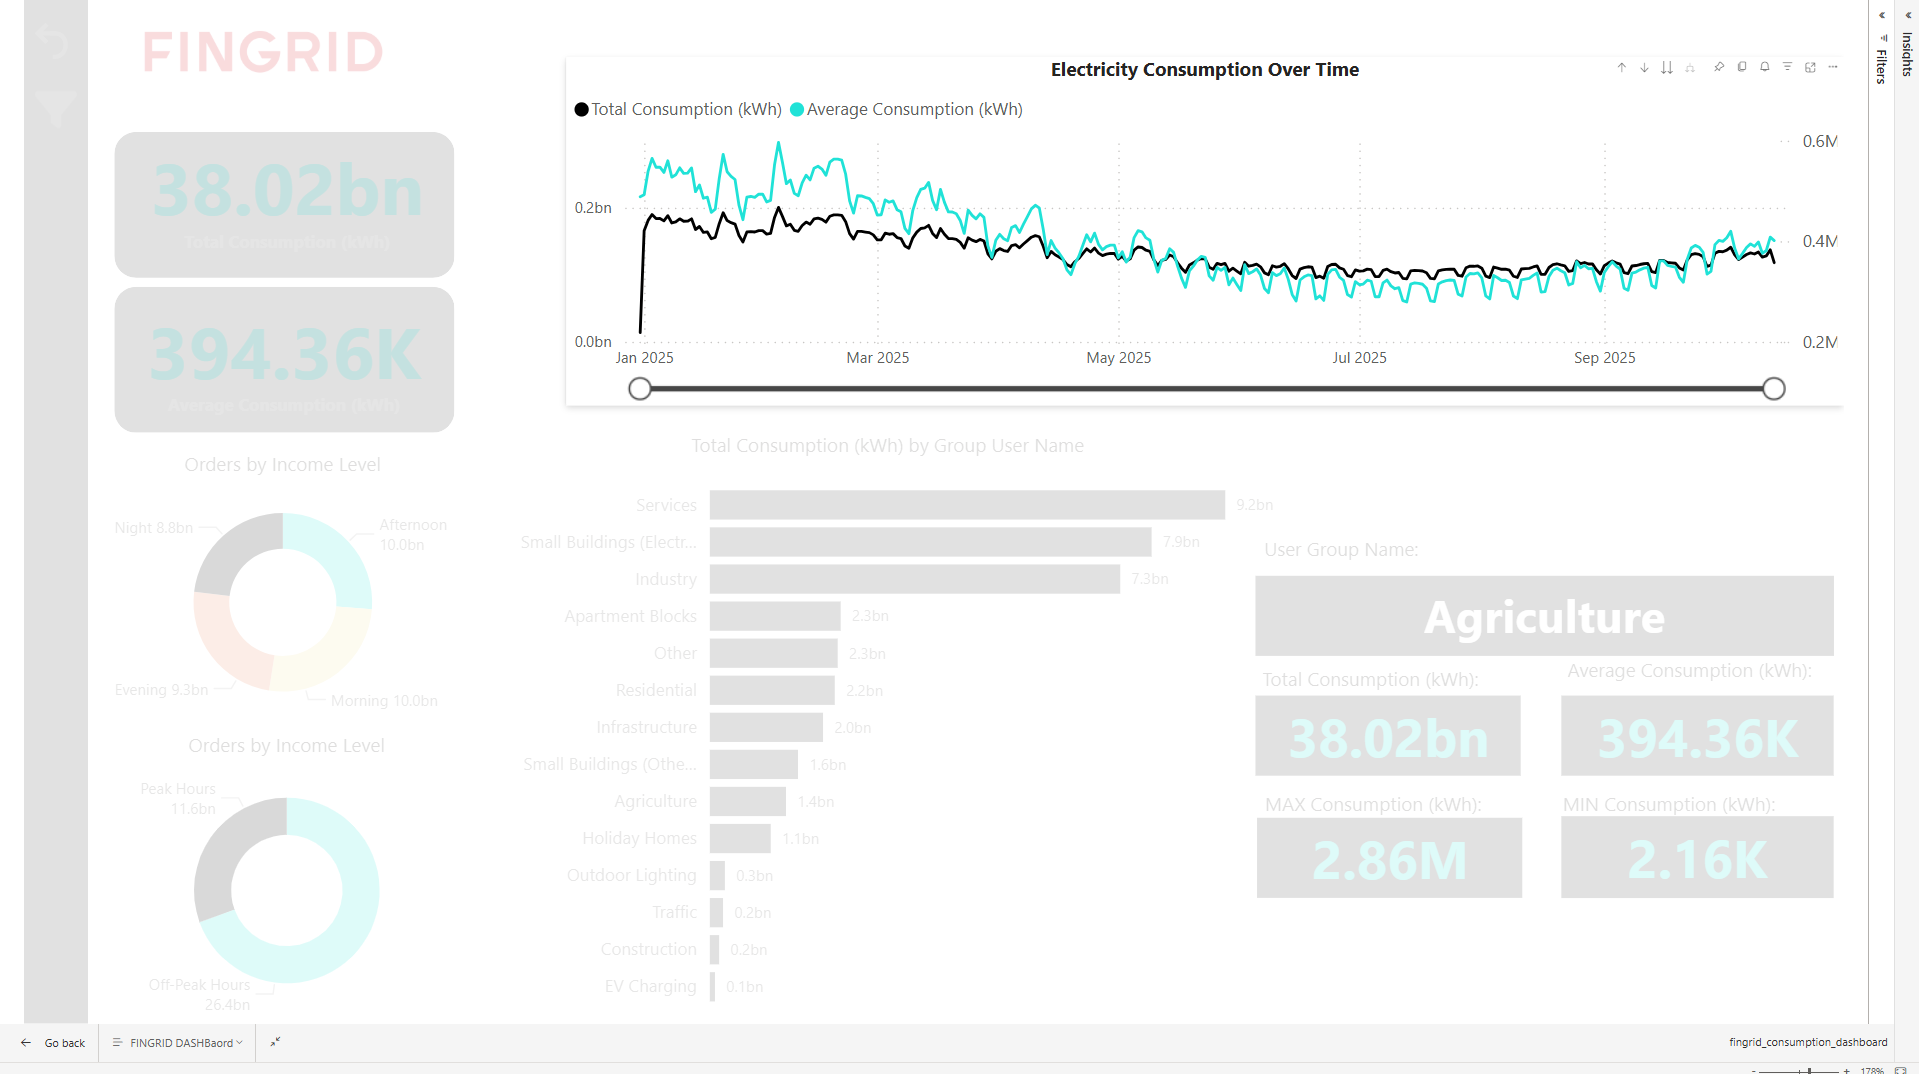

The dashboard page shown, as its layout file describes it:
{"tool":"powerbi","page":{"name":"FINGRID DASHBaord","canvas":[1280,720],"ordinal":0},"visuals":[{"type":"clusteredBarChart","title":"Total Consumption (kWh) by Group User Name","fields":{"Y":[" Measures.Total Consumption (kWh)"],"Category":["dim_usergroup.user_group_name"]},"box":[331.2,303.8,552.5,416.2],"z":0},{"type":"donutChart","title":"Orders by Income Level","fields":{"Category":["dim_hour.peak_description"],"Y":["Sum(fact_consumption.total_consumption_kwh)"]},"box":[51.2,515,267.5,205],"z":1000},{"type":"shape","box":[63.8,92.5,239.5,102.8],"z":2000,"group":"g1"},{"type":"donutChart","title":"Orders by Income Level","fields":{"Category":["dim_hour.period_of_day"],"Y":[" Measures.Total Consumption (kWh)"]},"box":[42.5,317.5,278.8,195],"z":2000},{"type":"lineChart","title":"Electricity Consumption Over Time","fields":{"Y":[" Measures.Total Consumption (kWh)"],"Category":["dim_date.year Hierarchy.year","dim_date.year Hierarchy.quarter","dim_date.year Hierarchy.month_name","dim_date.year Hierarchy.date","dim_date.year Hierarchy.day_of_month"],"Y2":[" Measures.Average Consumption (kWh)"]},"box":[381.2,40,898.8,245],"z":3000},{"type":"shape","box":[63.8,201.4,239.5,102.8],"z":3000,"group":"g1"},{"type":"group","id":"g1","title":"Group 2","box":[63.8,92.5,240,211.2],"z":5000},{"type":"group","id":"g2","title":"Group 1","box":[55,62.5,257.5,265],"z":6000},{"type":"card","fields":{"Values":[" Measures.Average Consumption (kWh)"]},"box":[55,177.5,255.9,149.9],"z":6000,"group":"g2"},{"type":"image","box":[75,10,186.2,52.5],"z":7000},{"type":"card","fields":{"Values":["Min(dim_usergroup.user_group_name)"]},"box":[866.2,405,406.9,56.6],"z":7000,"group":"g4"},{"type":"card","fields":{"Values":[" Measures.Total Consumption (kWh)"]},"box":[57.3,62.5,255.9,149.9],"z":8000,"group":"g2"},{"type":"group","id":"g3","title":"Group 4","box":[866.2,372.6,401.2,258.8],"z":8000},{"type":"card","fields":{"Values":[" Measures.Total Consumption (kWh)"]},"box":[866.2,489.2,187.2,56.6],"z":8000,"group":"g4"},{"type":"shape","title":"Left Nav Background","box":[0,0,45,720],"z":9000},{"type":"card","fields":{"Values":[" Measures.Average Consumption (kWh)"]},"box":[1081.3,489.2,191.8,56.6],"z":9000,"group":"g4"},{"type":"actionButton","box":[2.5,10,35,36.2],"z":10000},{"type":"textbox","box":[866.2,464.4,187.2,32.9],"z":10000,"group":"g4"},{"type":"actionButton","box":[3.8,57.5,37.5,40],"z":11000},{"type":"textbox","box":[1080.8,457.4,185.9,31.1],"z":11000,"group":"g3"},{"type":"textbox","box":[867.2,372.6,187,32.3],"z":12000,"group":"g4"},{"type":"card","fields":{"Values":[" Measures.Max Consumption (kWh)"]},"box":[867.2,575.4,187.2,56.5],"z":13000,"group":"g4"},{"type":"card","fields":{"Values":[" Measures.Min Consumption (kWh)"]},"box":[1081.6,574.5,191.4,57.4],"z":14000,"group":"g4"},{"type":"textbox","box":[867.7,551.6,187.2,32.9],"z":15000,"group":"g4"},{"type":"textbox","box":[1077.3,551.6,187.2,32.9],"z":16000,"group":"g4"},{"type":"group","id":"g4","title":"Group 3","box":[866.2,372.6,400.2,259.3],"z":17001,"group":"g3"}]}

Visuals, with their boxes on the page's 1280x720 design canvas (x1, y1, x2, y2). These are canvas units, not pixel positions in the 1919x1074 screenshot, which may show the page scaled, cropped or inside an application window:
"Total Consumption (kWh) by Group User Name" clusteredBarChart: region(331, 304, 884, 720)
"Orders by Income Level" donutChart: region(51, 515, 319, 720)
shape: region(64, 92, 303, 195)
"Orders by Income Level" donutChart: region(42, 318, 321, 512)
"Electricity Consumption Over Time" lineChart: region(381, 40, 1280, 285)
shape: region(64, 201, 303, 304)
"Group 2" group: region(64, 92, 304, 304)
"Group 1" group: region(55, 62, 312, 328)
card -  Measures.Average Consumption (kWh): region(55, 178, 311, 327)
image: region(75, 10, 261, 62)
card - Min(dim_usergroup.user_group_name): region(866, 405, 1273, 462)
card -  Measures.Total Consumption (kWh): region(57, 62, 313, 212)
"Group 4" group: region(866, 373, 1267, 631)
card -  Measures.Total Consumption (kWh): region(866, 489, 1053, 546)
"Left Nav Background" shape: region(0, 0, 45, 720)
card -  Measures.Average Consumption (kWh): region(1081, 489, 1273, 546)
actionButton: region(2, 10, 38, 46)
textbox: region(866, 464, 1053, 497)
actionButton: region(4, 58, 41, 98)
textbox: region(1081, 457, 1267, 488)
textbox: region(867, 373, 1054, 405)
card -  Measures.Max Consumption (kWh): region(867, 575, 1054, 632)
card -  Measures.Min Consumption (kWh): region(1082, 574, 1273, 632)
textbox: region(868, 552, 1055, 584)
textbox: region(1077, 552, 1264, 584)
"Group 3" group: region(866, 373, 1266, 632)
